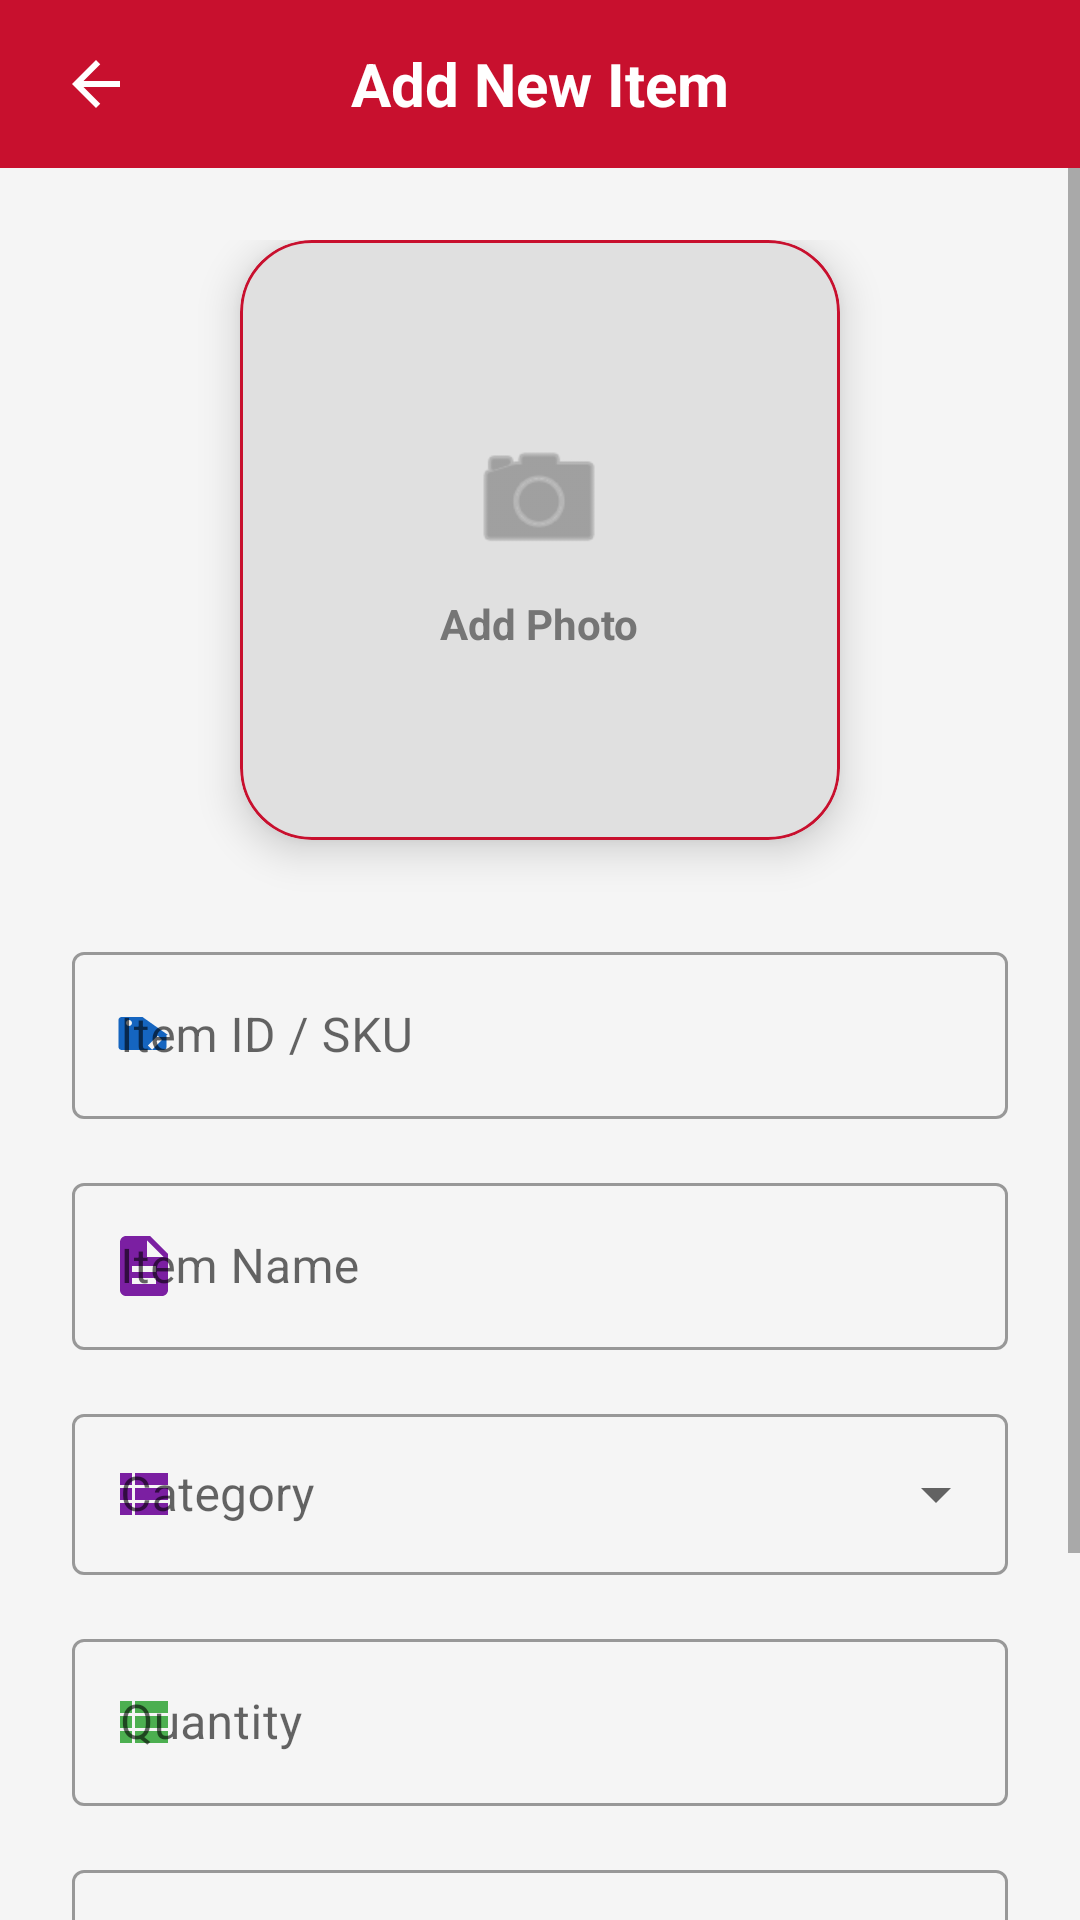

Named icons in this screenshot (1080px×1920px) and their bounding boxes, box(x1, y1, x2, y2):
arrow back: box(72, 60, 120, 108)
camera: box(484, 453, 594, 540)
